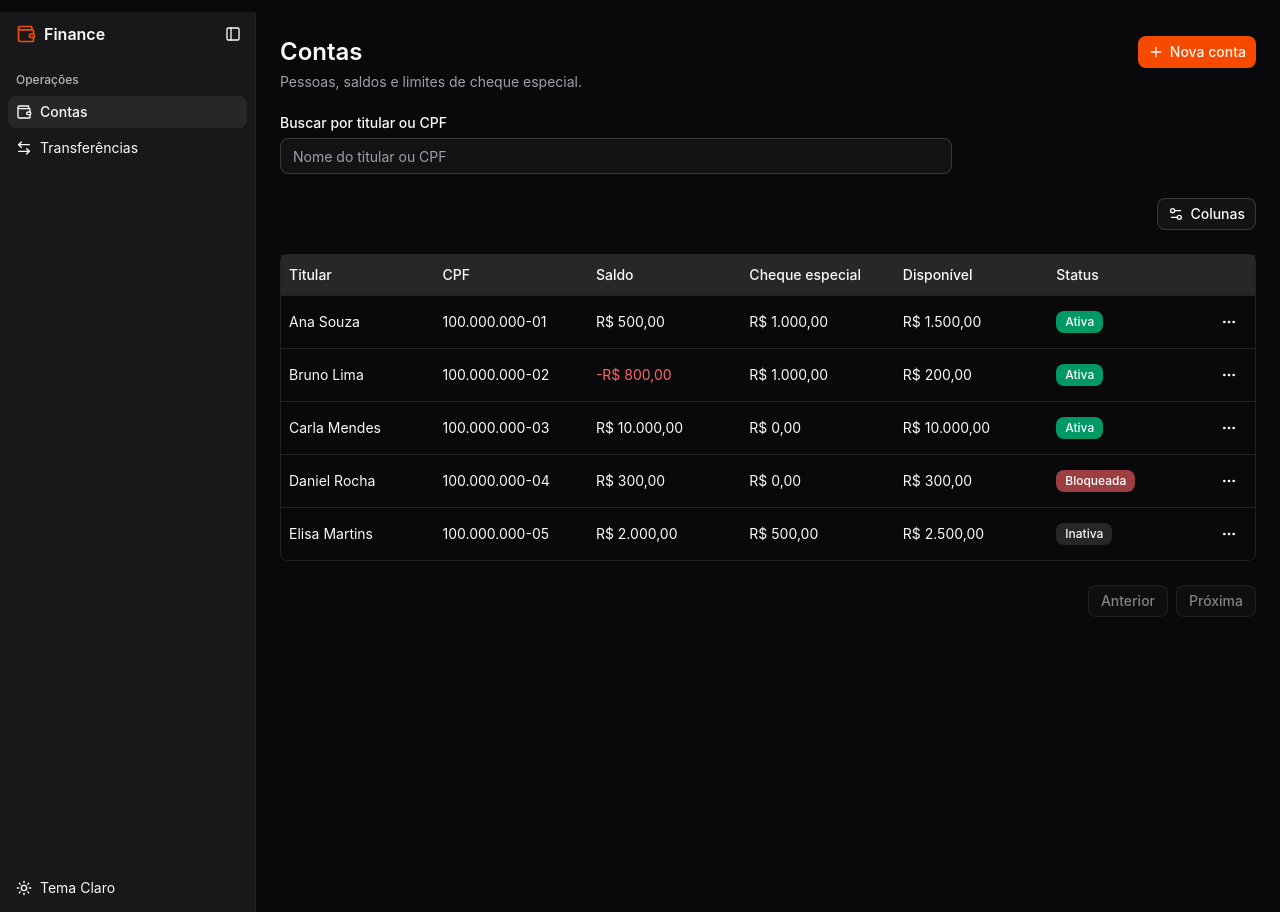
Test case: AppLayout › navigates between pages through the sidebar
This screenshot has width=1280, height=912.
Expected: the heading "Contas" is shown, top-left (280, 37), bottom-right (362, 66)
Click the link "Transferências": (77,148) top-left (16, 139), bottom-right (138, 156)
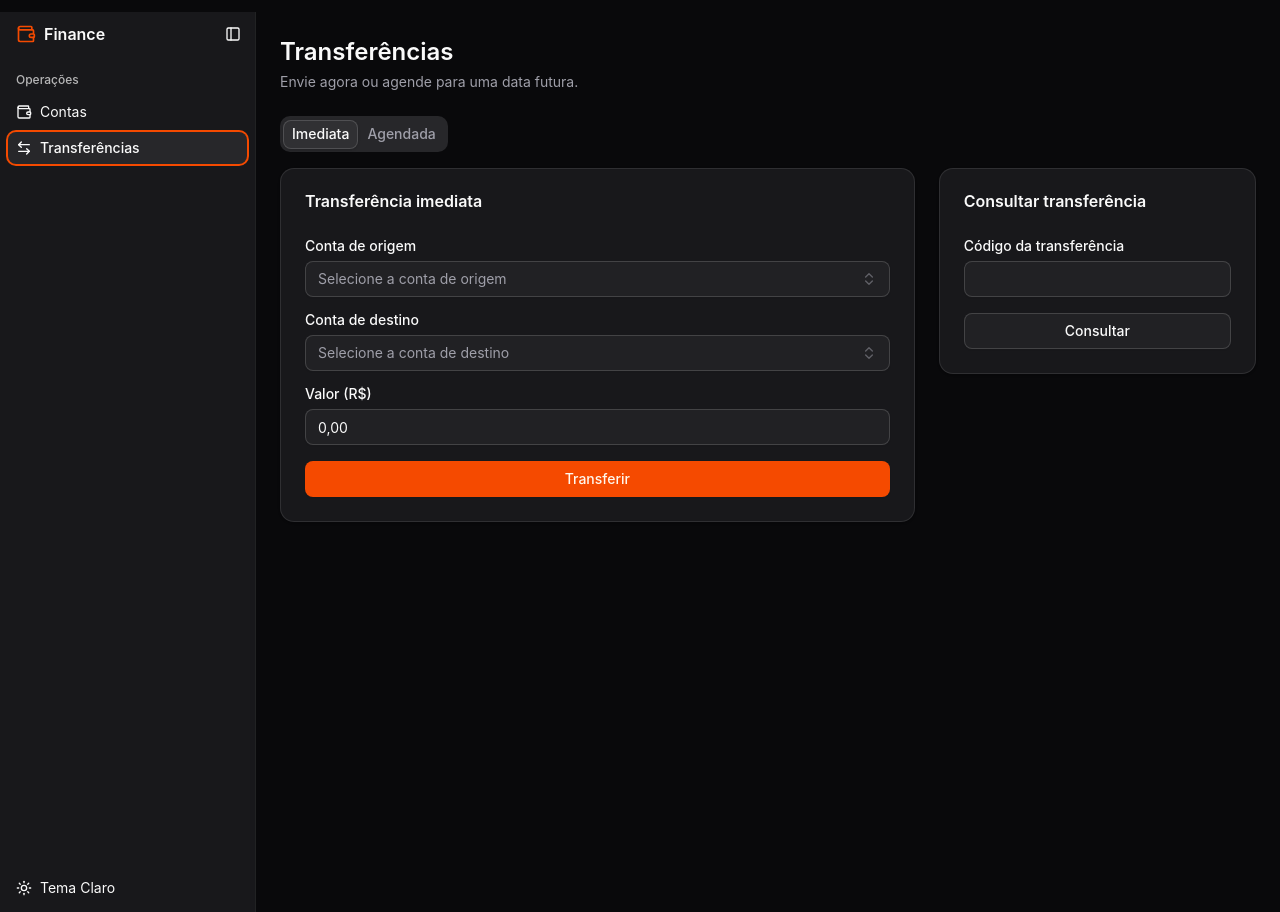
Result: the heading "Transferências" is shown at top-left (280, 37), bottom-right (454, 66)
Click the link "Contas": (51,112) top-left (16, 103), bottom-right (87, 120)
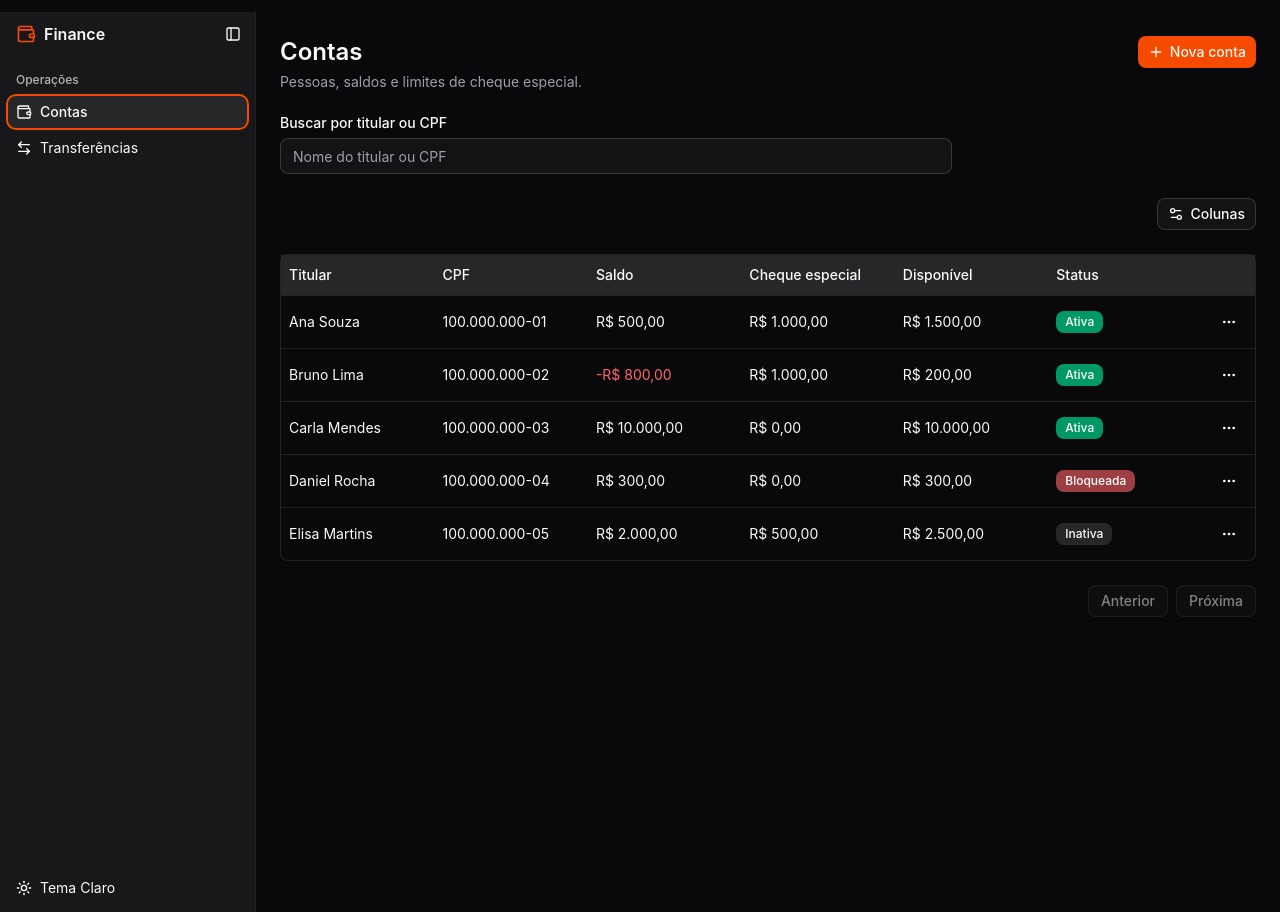
Result: the heading "Contas" is shown at top-left (280, 37), bottom-right (362, 66)
